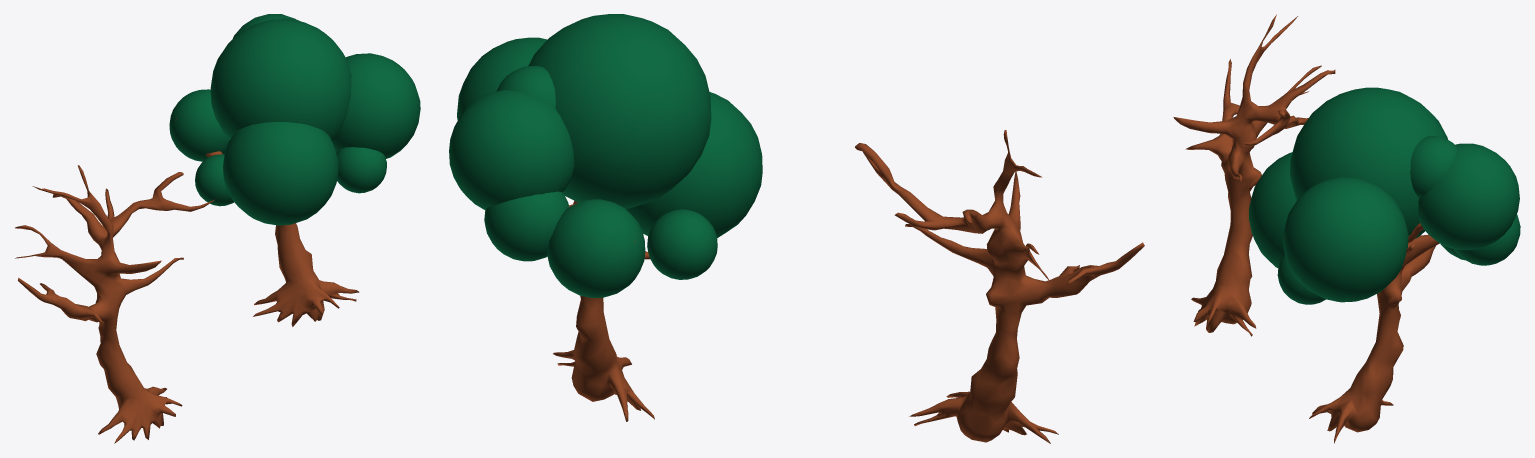
Rendered from TreesProto.fbx.
3 views of the same model, side by side, from view 1: azimuth 30°, elevation 25°; view 2: azimuth 150°, elevation 25°; view 3: azimuth 270°, elevation 25° (orthographic). The views are drawn at different scales.
Parts seen in each view (by area): view 1: Sphere.019, Mball.002, Sphere.014, Sphere.016, Mball.001, Sphere.017, Sphere.020, Sphere.022; view 2: Sphere.019, Mball.002, Sphere.021, Sphere.014, Sphere.017, Mball.001, Sphere.018, Sphere.022, Sphere.016, Sphere.015; view 3: Sphere.016, Sphere.019, Mball.002, Sphere.021, Mball.001, Sphere.014, Sphere.015, Sphere.018, Sphere.020.
Boxes of the visible parts, x1,y1,x2,y2 form: Sphere.019: (210,19,351,141); Mball.002: (15,165,215,443); Sphere.014: (223,122,338,225); Sphere.016: (332,53,420,158); Mball.001: (175,118,402,326); Sphere.017: (169,89,229,161); Sphere.020: (336,147,386,193); Sphere.022: (195,154,233,206); Sphere.019: (528,14,711,208); Mball.002: (855,130,1144,443); Sphere.021: (449,90,574,209); Sphere.014: (626,92,762,237); Sphere.017: (547,199,645,297); Mball.001: (553,201,654,421); Sphere.018: (484,191,569,261); Sphere.022: (647,209,717,279); Sphere.016: (457,37,547,120); Sphere.015: (496,66,555,108); Sphere.016: (1283,177,1408,302); Sphere.019: (1290,87,1447,238); Mball.002: (1173,14,1335,336); Sphere.021: (1418,143,1519,250); Mball.001: (1284,223,1439,443); Sphere.014: (1249,152,1296,268); Sphere.015: (1410,136,1456,197); Sphere.018: (1454,214,1520,265); Sphere.020: (1277,254,1325,304).
Bounding box in the file's own units: 1155 × 757 × 683.
